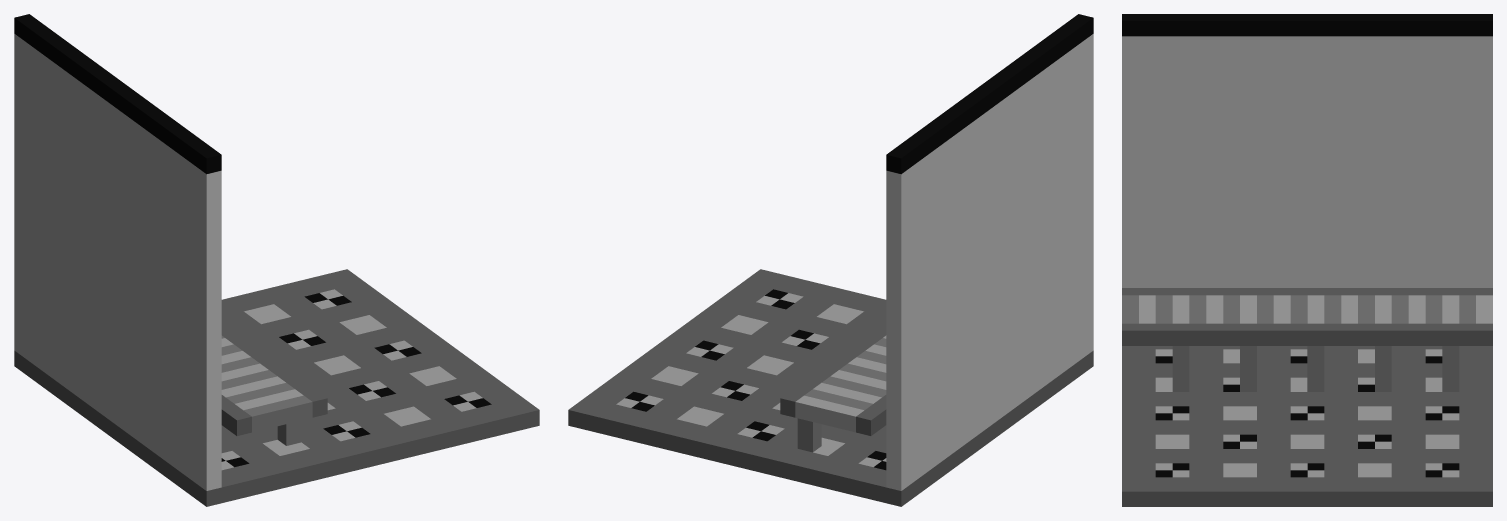
File: level_one-6.obj
The picture shows the model from 3 angles, left to right: view 1: azimuth 30°, elevation 25°; view 2: azimuth 150°, elevation 25°; view 3: azimuth 270°, elevation 25°; orthographic projection. The views are drawn at different scales.
Parts seen in each view (by area): view 1: level_one-6; view 2: level_one-6; view 3: level_one-6.
Part boxes in pixels (x1,y1,x2,y2): level_one-6: (14,14,539,506); level_one-6: (568,14,1093,506); level_one-6: (1122,14,1492,506).
Size of the model in its own units: 22 by 22 by 22.
1 material, 1 textured.
